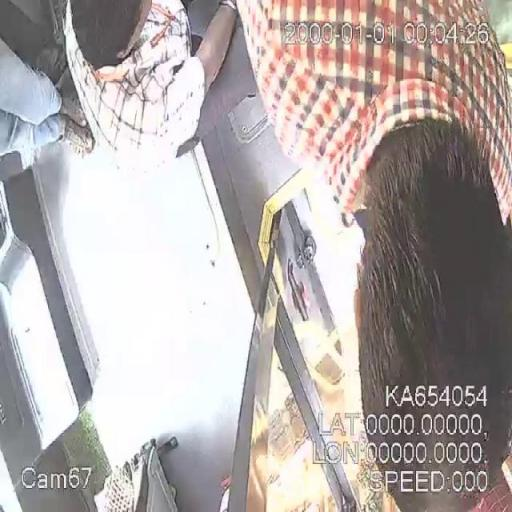persona: (233, 0, 512, 511), (62, 0, 235, 162)
